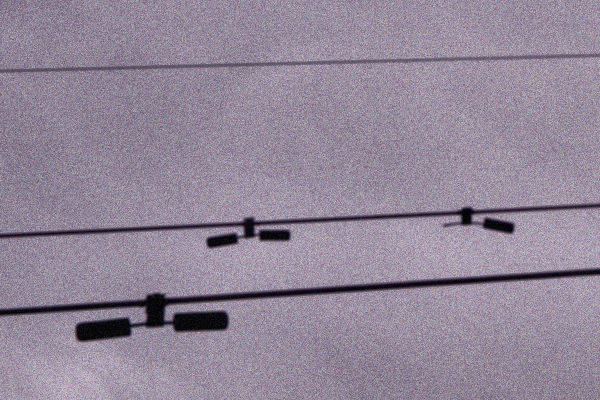damper: (75, 289, 232, 342), (205, 214, 297, 249)
damper_defect: (440, 206, 517, 235)
